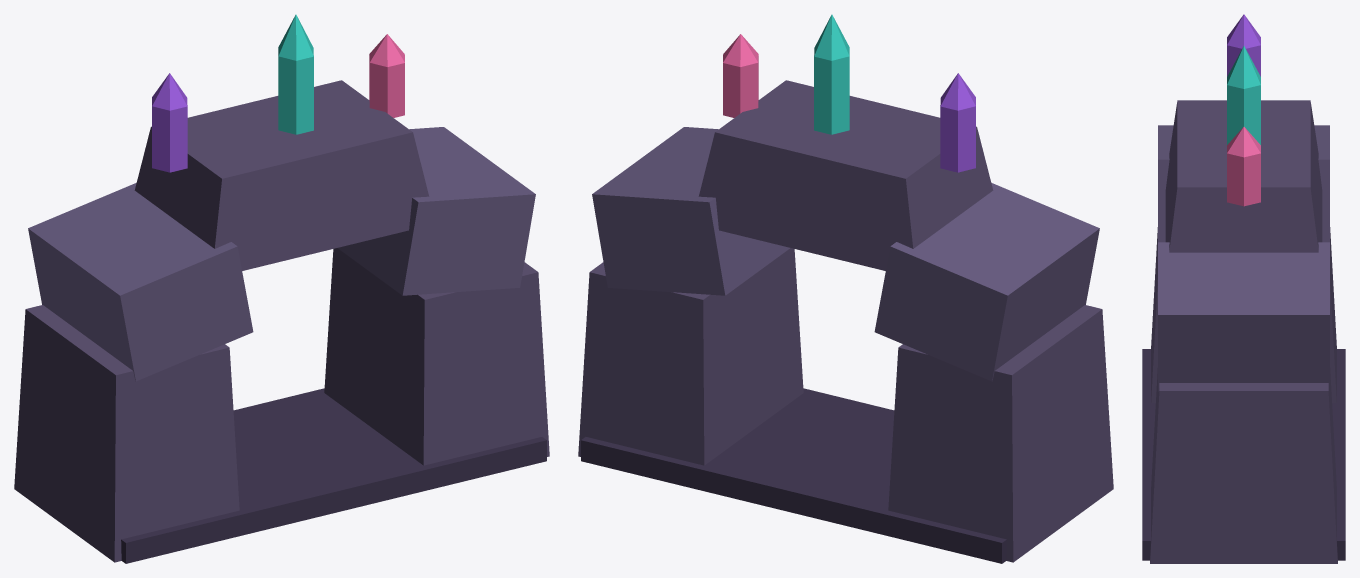
The model's file is env_r12_stalagmite_arch.glb.
The picture shows the model from 3 angles, left to right: view 1: azimuth 30°, elevation 25°; view 2: azimuth 150°, elevation 25°; view 3: azimuth 270°, elevation 25°; orthographic projection. The views are drawn at different scales.
Visible parts, largest first — view 1: env_r12_stalagmite_arch; view 2: env_r12_stalagmite_arch; view 3: env_r12_stalagmite_arch.
Part boxes in pixels (x1,y1,x2,y2): env_r12_stalagmite_arch: [14, 14, 549, 563]; env_r12_stalagmite_arch: [578, 14, 1113, 563]; env_r12_stalagmite_arch: [1142, 14, 1345, 563].
Size of the model in its own units: 6 by 6 by 2.6.
1 material, 1 textured.
